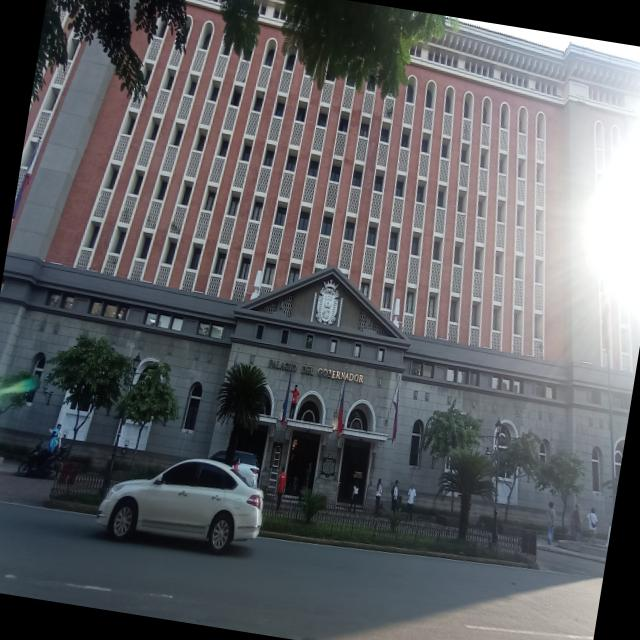Palacio de Gobernador: (0, 0, 574, 572)
